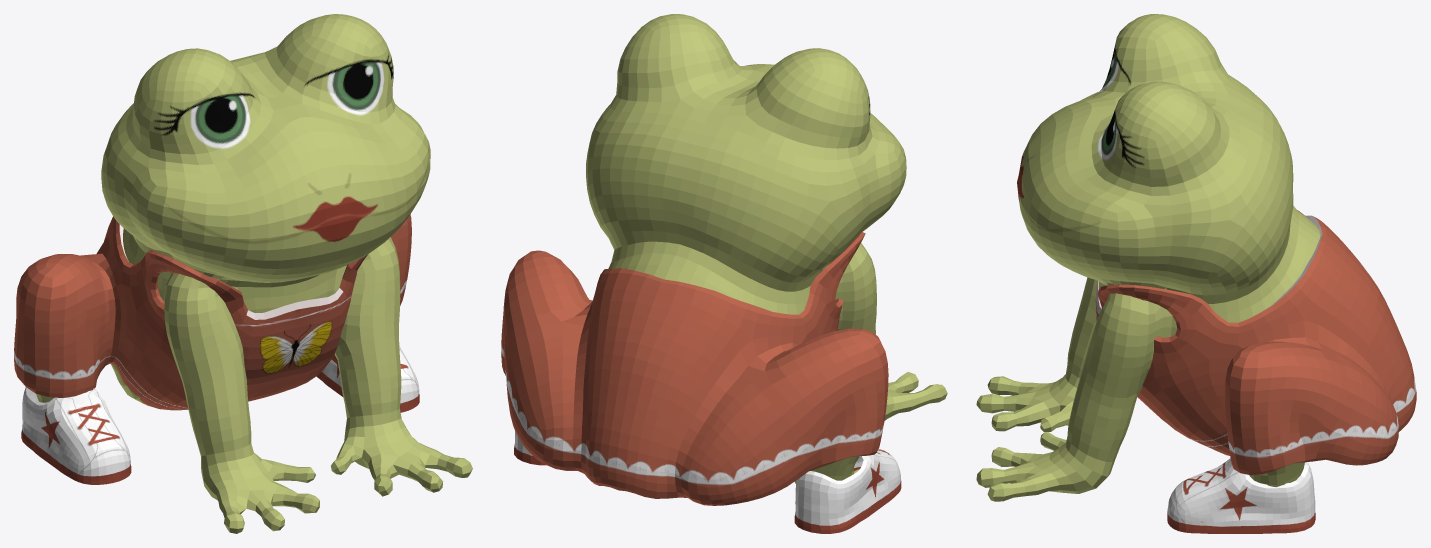
The model's file is MEL THE FROG1.fbx.
3 renders of one model, left to right at view 1: azimuth 30°, elevation 25°; view 2: azimuth 150°, elevation 25°; view 3: azimuth 270°, elevation 25°, orthographic. The views are drawn at different scales.
Parts seen in each view (by area): view 1: low_body1:Group14822; view 2: low_body1:Group14822; view 3: low_body1:Group14822.
Part boxes in pixels (box(x1,y1,x2,y2)): low_body1:Group14822: box(14, 14, 472, 533); low_body1:Group14822: box(501, 14, 947, 533); low_body1:Group14822: box(976, 14, 1416, 533).
Bounding box in the file's own units: 14.6 × 15.16 × 14.98.
Materials: 3 (3 with a texture image).
